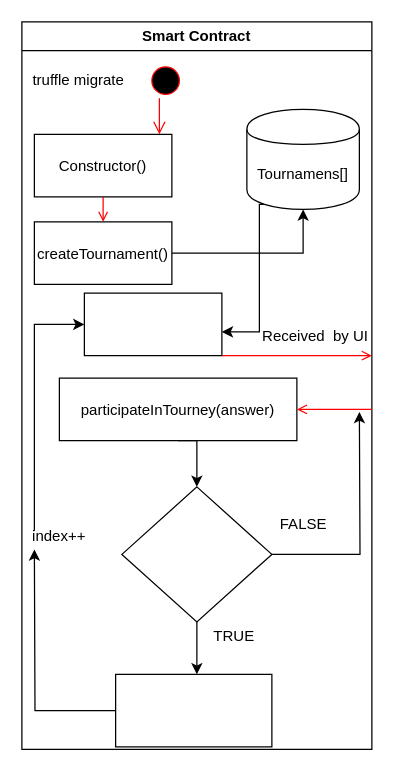
The diagram is 404 pixels wide and 771 high, and some of its shapes have lost their labels. The shapes that lost their labels are listed below. From the top down, each one's centre as x and y in pixels, then its label:
At (x=152, y=324): "Tournaments[index]".
At (x=196, y=554): "players.len == maxPlayers".
At (x=193, y=710): "concludeTournament()".
